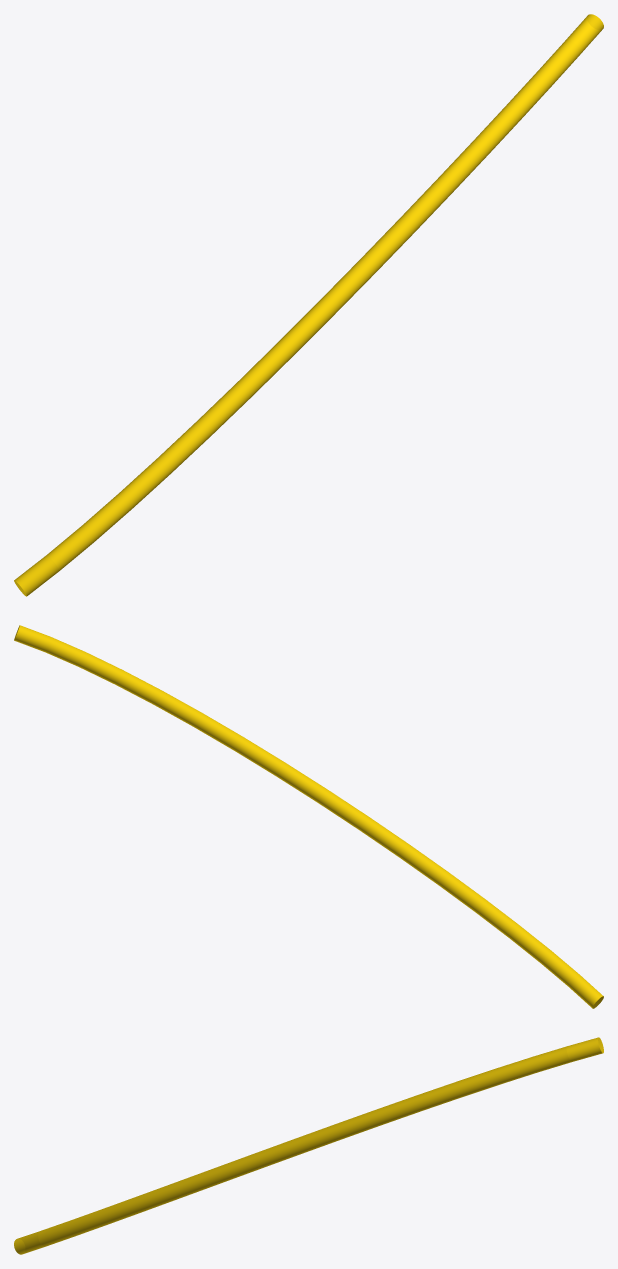
The model's file is Event_420094457_track_30.fbx.
3 renders of one model, top to bottom at view 1: azimuth 30°, elevation 25°; view 2: azimuth 150°, elevation 25°; view 3: azimuth 330°, elevation 25°, orthographic. The views are drawn at different scales.
Visible parts, largest first — view 1: Model; view 2: Model; view 3: Model.
Part boxes in pixels (box(x1,y1,x2,y2)): Model: box(14, 14, 603, 596); Model: box(14, 625, 603, 1008); Model: box(14, 1037, 603, 1254).
Size of the model in its own units: 1.47 by 0.7915 by 0.3271.
